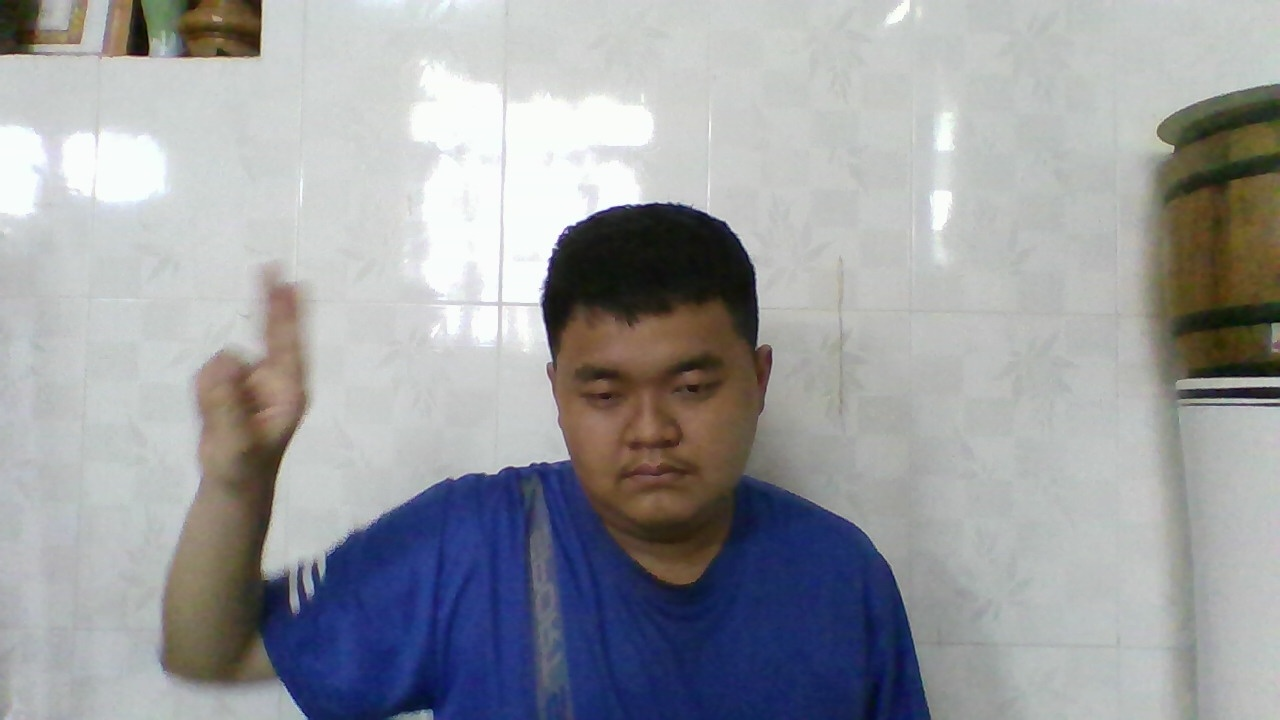U: (185, 255, 305, 484)
